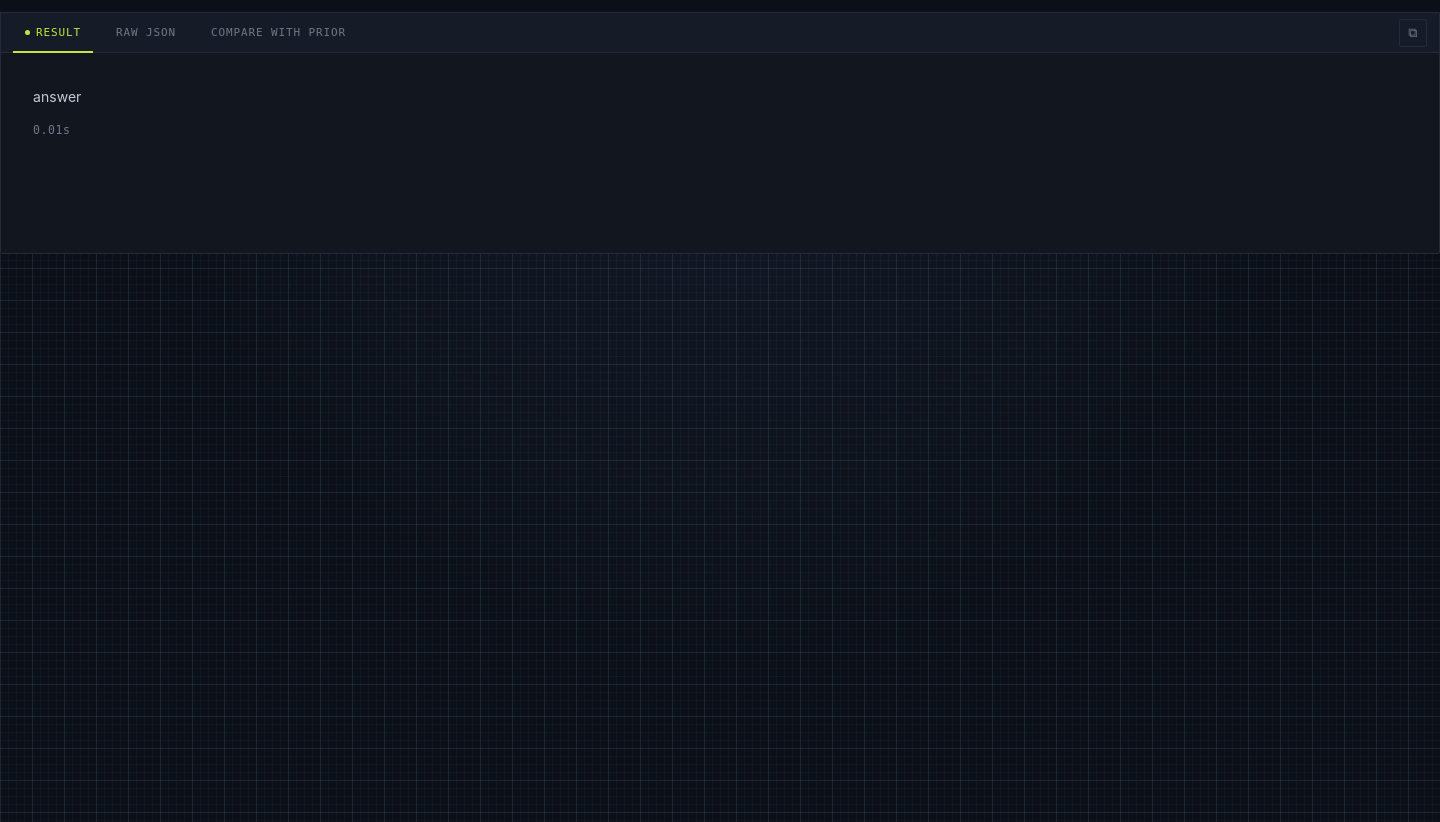
Test case: OutputPanel tabs › shows copy failures in the output toolbar
Click the button named "Copy as Markdown" at (1413, 32), box left=1399, top=18, right=1427, bottom=46
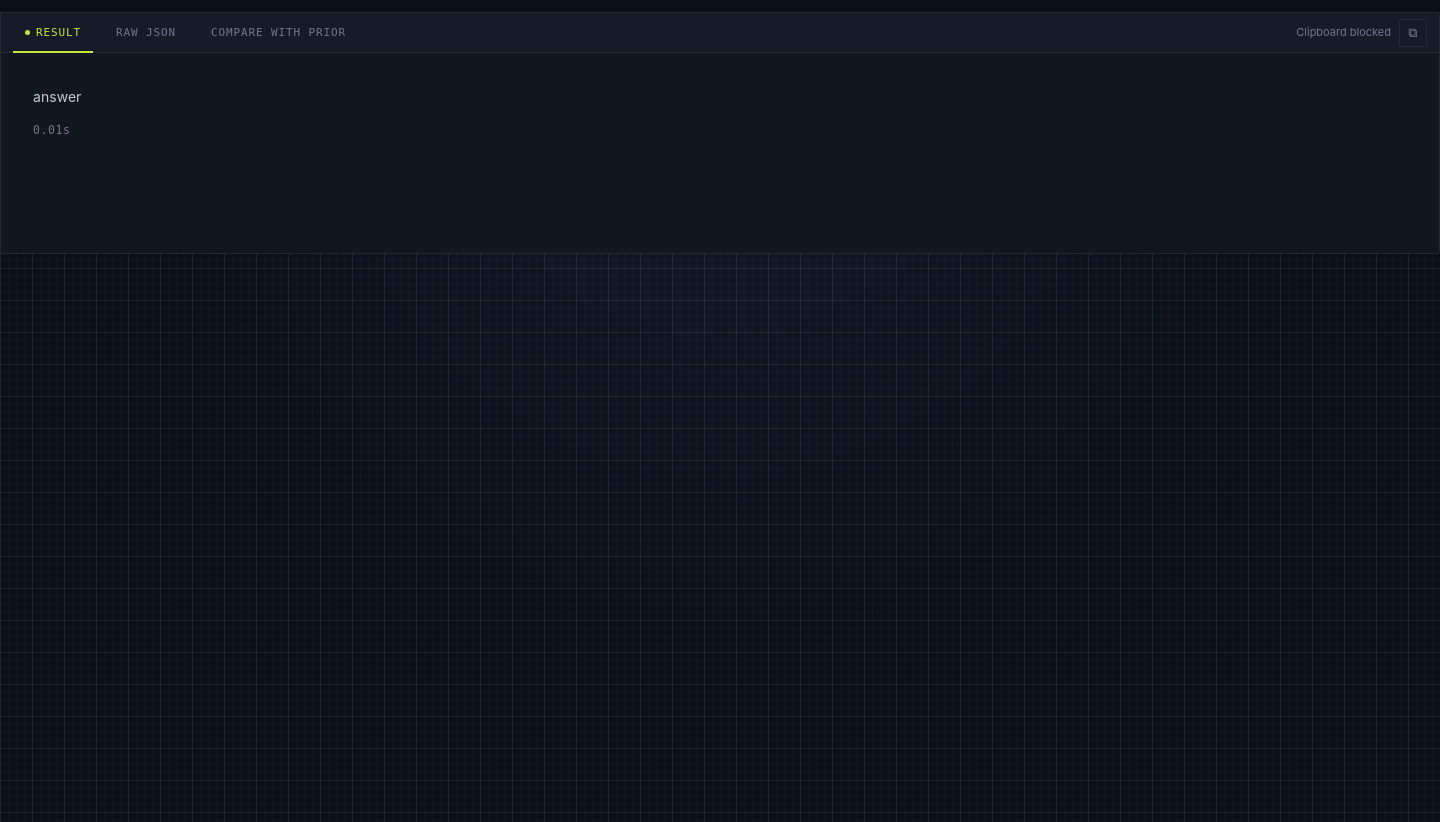
Result: the text "Clipboard blocked" is shown at left=1296, top=24, right=1391, bottom=41
